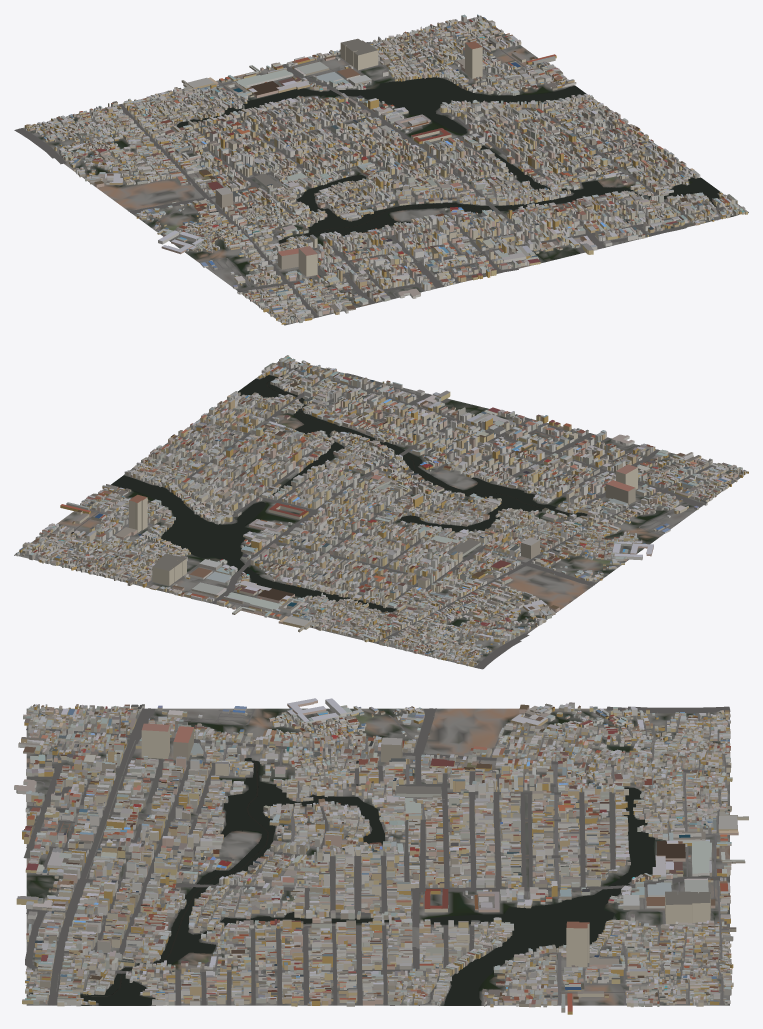
3 renders of one model, top to bottom at view 1: azimuth 30°, elevation 25°; view 2: azimuth 150°, elevation 25°; view 3: azimuth 270°, elevation 25°, orthographic. The views are drawn at different scales.
Visible parts, largest first — view 1: buildings, ground, roads, water; view 2: buildings, ground, roads, water; view 3: buildings, ground, roads, water.
Part boxes in pixels (box(x1,y1,x2,y2)): buildings: box(24, 14, 747, 324); ground: box(22, 17, 748, 325); roads: box(14, 21, 740, 324); water: box(177, 77, 733, 243); buildings: box(15, 355, 748, 666); ground: box(14, 362, 746, 667); roads: box(20, 364, 740, 669); water: box(111, 362, 587, 612); buildings: box(14, 698, 748, 1014); ground: box(26, 708, 729, 1005); roads: box(23, 706, 730, 1005); water: box(26, 758, 655, 1005).
Size of the model in its own units: 1481 by 89.67 by 1464.
